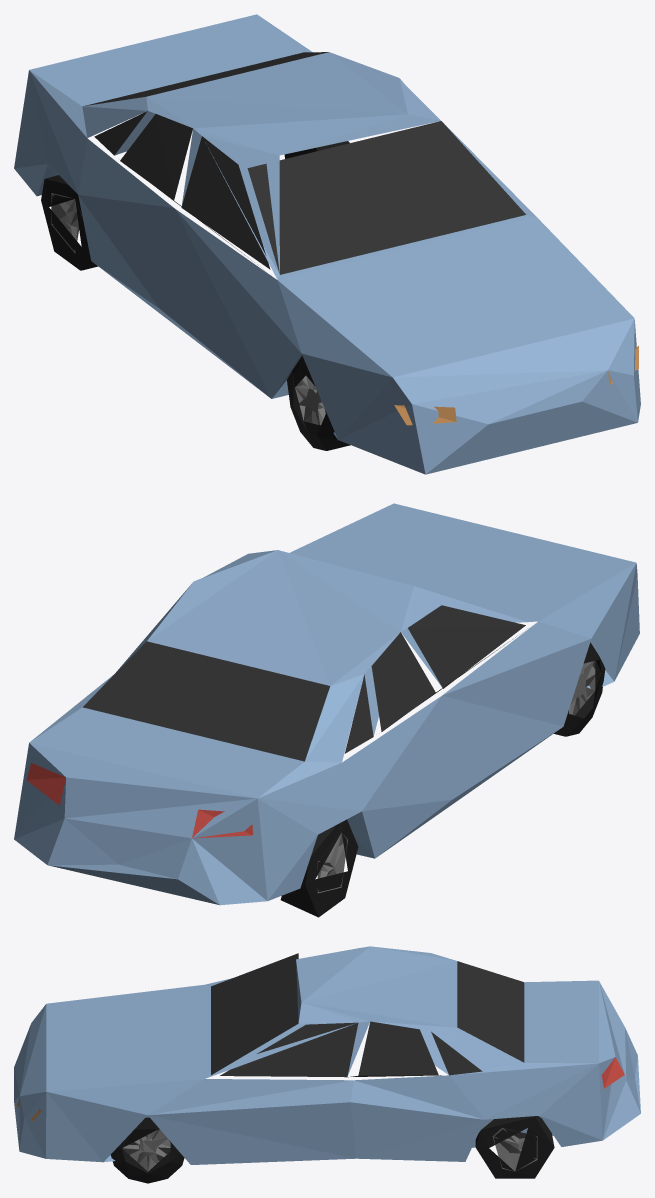
The model's file is car1.glb.
The picture shows the model from 3 angles, top to bottom: view 1: azimuth 30°, elevation 25°; view 2: azimuth 150°, elevation 25°; view 3: azimuth 270°, elevation 25°; orthographic projection. The views are drawn at different scales.
Parts seen in each view (by area): view 1: NormalCar1, NormalCar1_BackWheels, NormalCar1_FrontRightWheel; view 2: NormalCar1, NormalCar1_BackWheels, NormalCar1_FrontRightWheel; view 3: NormalCar1, NormalCar1_BackWheels, NormalCar1_FrontLeftWheel.
Boxes of the visible parts, left/top/right/bottom form: NormalCar1: left=14, top=14, right=640, bottom=474; NormalCar1_BackWheels: left=41, top=141, right=349, bottom=270; NormalCar1_FrontRightWheel: left=287, top=355, right=350, bottom=450; NormalCar1: left=14, top=503, right=639, bottom=905; NormalCar1_BackWheels: left=280, top=819, right=358, bottom=917; NormalCar1_FrontRightWheel: left=554, top=642, right=605, bottom=736; NormalCar1: left=14, top=946, right=640, bottom=1164; NormalCar1_BackWheels: left=475, top=1116, right=554, bottom=1178; NormalCar1_FrontLeftWheel: left=110, top=1117, right=184, bottom=1183.
Size of the model in its own units: 1.68 by 1.15 by 4.17.
